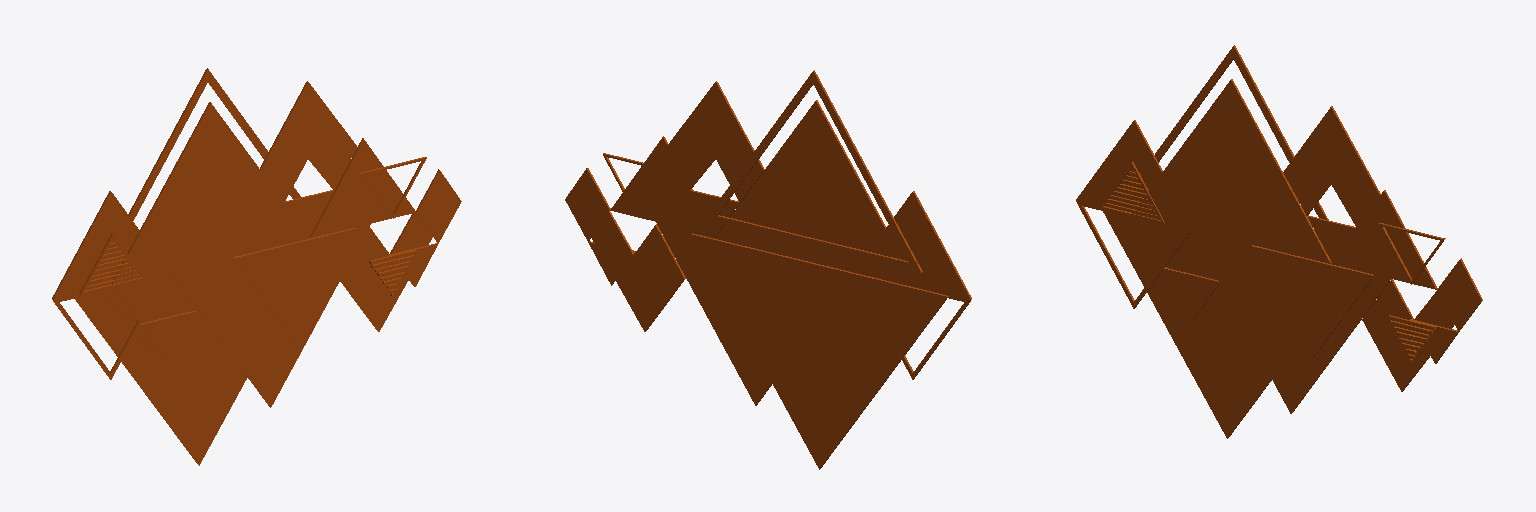
File: male02.obj
3 views of the same model, side by side, from view 1: azimuth 30°, elevation 25°; view 2: azimuth 150°, elevation 25°; view 3: azimuth 330°, elevation 25° (orthographic).
Parts seen in each view (by area): view 1: Obj3d66_676095_195_884, Obj3d66_676095_193_977, Obj3d66_676095_194_33, Obj3d66_676095_176_285, Obj3d66_676095_175_388, Obj3d66_676095_174_345, Obj3d66_676095_192_417, Obj3d66_676095_199_377, Obj3d66_676095_198_403, Obj3d66_676095_177_285, Obj3d66_676095_200_829, Obj3d66_676095_191_712 (+9 smaller); view 2: Obj3d66_676095_193_977, Obj3d66_676095_195_884, Obj3d66_676095_174_345, Obj3d66_676095_194_33, Obj3d66_676095_199_377, Obj3d66_676095_198_403, Obj3d66_676095_175_388, Obj3d66_676095_192_417, Obj3d66_676095_190_56, Obj3d66_676095_197_167, Obj3d66_676095_196_200, Obj3d66_676095_191_712 (+2 smaller); view 3: Obj3d66_676095_195_884, Obj3d66_676095_193_977, Obj3d66_676095_194_33, Obj3d66_676095_176_285, Obj3d66_676095_175_388, Obj3d66_676095_174_345, Obj3d66_676095_192_417, Obj3d66_676095_199_377, Obj3d66_676095_198_403, Obj3d66_676095_177_285, Obj3d66_676095_200_829, Obj3d66_676095_191_712 (+9 smaller).
Boxes of the visible parts, x1=… form: Obj3d66_676095_195_884: x1=111, y1=102, x2=309, y2=284; Obj3d66_676095_193_977: x1=75, y1=273, x2=247, y2=465; Obj3d66_676095_194_33: x1=171, y1=224, x2=370, y2=407; Obj3d66_676095_176_285: x1=233, y1=228, x2=355, y2=340; Obj3d66_676095_175_388: x1=310, y1=138, x2=416, y2=237; Obj3d66_676095_174_345: x1=340, y1=213, x2=432, y2=331; Obj3d66_676095_192_417: x1=260, y1=81, x2=356, y2=169; Obj3d66_676095_199_377: x1=52, y1=191, x2=139, y2=299; Obj3d66_676095_198_403: x1=128, y1=68, x2=300, y2=220; Obj3d66_676095_177_285: x1=141, y1=310, x2=196, y2=363; Obj3d66_676095_200_829: x1=53, y1=273, x2=168, y2=379; Obj3d66_676095_191_712: x1=285, y1=190, x2=333, y2=235; Obj3d66_676095_193_977: x1=691, y1=233, x2=948, y2=469; Obj3d66_676095_195_884: x1=716, y1=100, x2=885, y2=269; Obj3d66_676095_174_345: x1=591, y1=211, x2=685, y2=331; Obj3d66_676095_194_33: x1=656, y1=222, x2=854, y2=405; Obj3d66_676095_199_377: x1=854, y1=191, x2=971, y2=299; Obj3d66_676095_198_403: x1=705, y1=70, x2=922, y2=272; Obj3d66_676095_175_388: x1=610, y1=136, x2=712, y2=235; Obj3d66_676095_192_417: x1=667, y1=81, x2=764, y2=170; Obj3d66_676095_190_56: x1=667, y1=147, x2=715, y2=189; Obj3d66_676095_197_167: x1=565, y1=168, x2=610, y2=209; Obj3d66_676095_196_200: x1=565, y1=200, x2=609, y2=241; Obj3d66_676095_191_712: x1=690, y1=190, x2=740, y2=236; Obj3d66_676095_195_884: x1=1132, y1=79, x2=1331, y2=263; Obj3d66_676095_193_977: x1=1103, y1=211, x2=1271, y2=438; Obj3d66_676095_194_33: x1=1191, y1=230, x2=1390, y2=413; Obj3d66_676095_176_285: x1=1252, y1=245, x2=1374, y2=358; Obj3d66_676095_175_388: x1=1331, y1=190, x2=1437, y2=289; Obj3d66_676095_174_345: x1=1362, y1=279, x2=1454, y2=391; Obj3d66_676095_192_417: x1=1283, y1=106, x2=1380, y2=195; Obj3d66_676095_199_377: x1=1076, y1=120, x2=1162, y2=212; Obj3d66_676095_198_403: x1=1155, y1=45, x2=1328, y2=219; Obj3d66_676095_177_285: x1=1164, y1=268, x2=1218, y2=320; Obj3d66_676095_200_829: x1=1076, y1=201, x2=1190, y2=308; Obj3d66_676095_191_712: x1=1307, y1=215, x2=1356, y2=261.
Size of the model in its own units: 227 by 211 by 6.35.